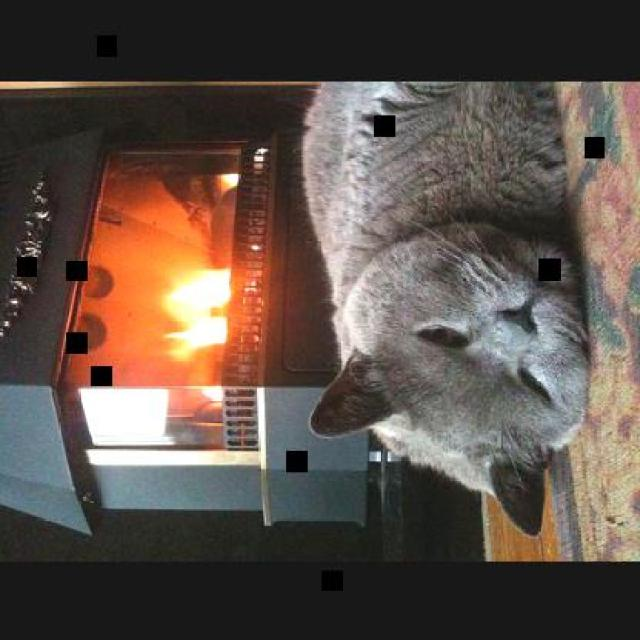unauthorized: (298, 78, 591, 537)
